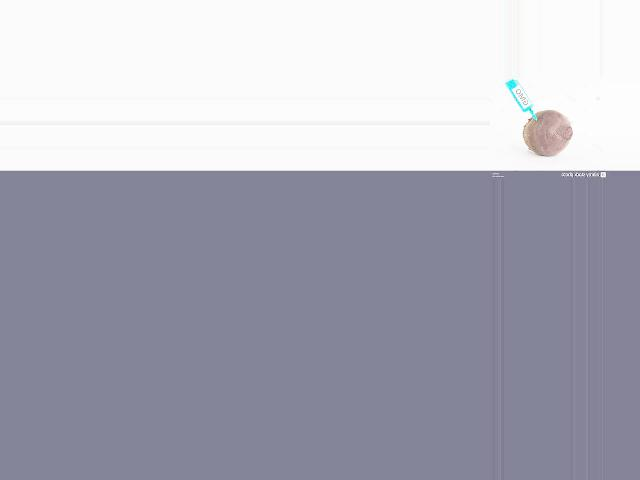beet: (522, 110, 572, 157)
